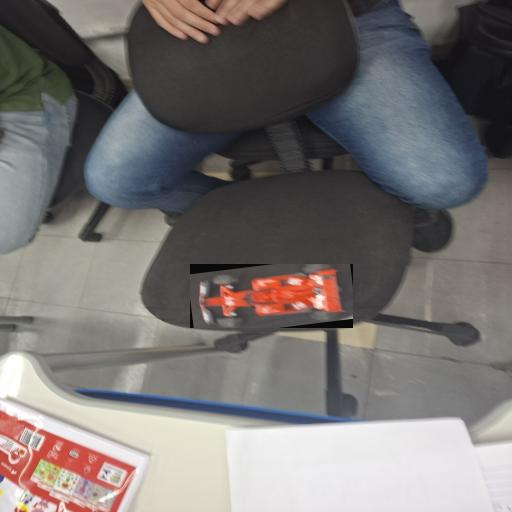carro: (190, 264, 353, 328)
